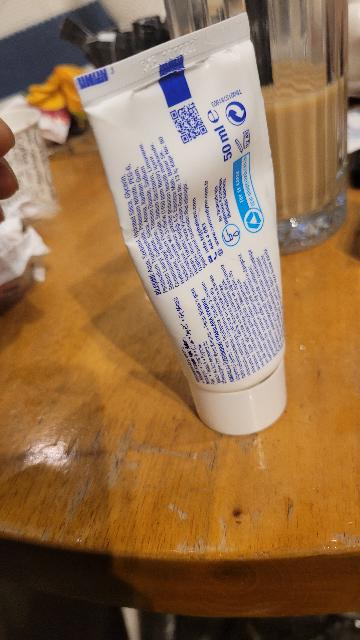Plastik: (60, 10, 292, 443)
